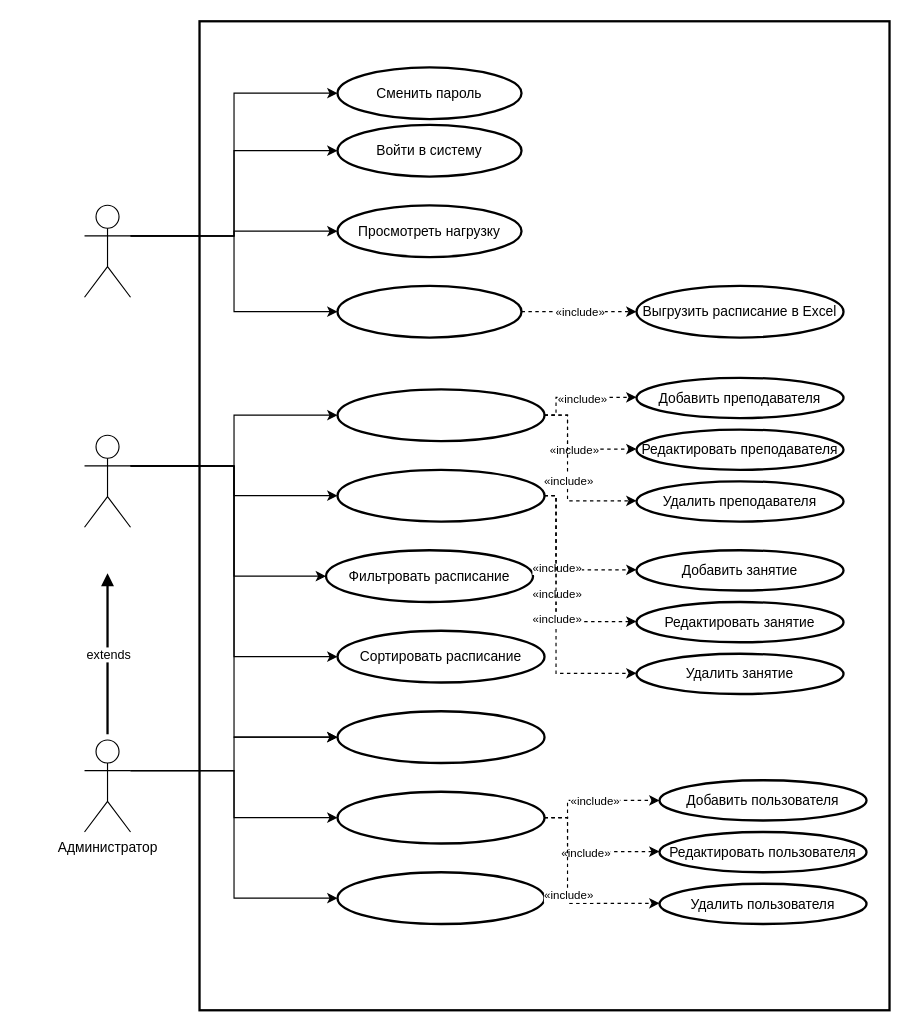
This 911x1030 diagram has some shape labels left out. The centre of each missing label's shape, as x and y in pixels:
"Посмотреть расписание" belongs at pixel 429 311.
"Преподаватель" belongs at pixel 107 250.
"Просмотреть отчеты" belongs at pixel 440 737.
"Сотрудник учебного отдела" belongs at pixel 107 480.
"Управлять группами" belongs at pixel 440 898.
"Управлять пользователями" belongs at pixel 440 817.
"Управлять преподавателями" belongs at pixel 440 415.
"Управлять расписанием" belongs at pixel 440 495.
